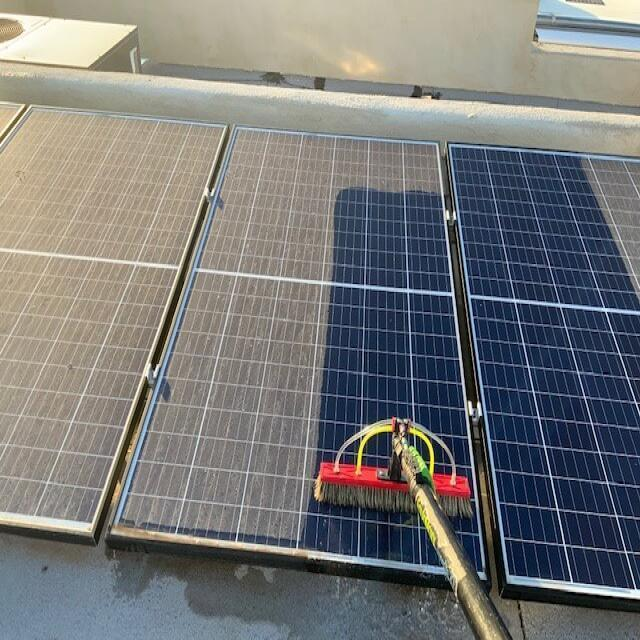Photovoltaic-Panel: (297, 143, 640, 599)
